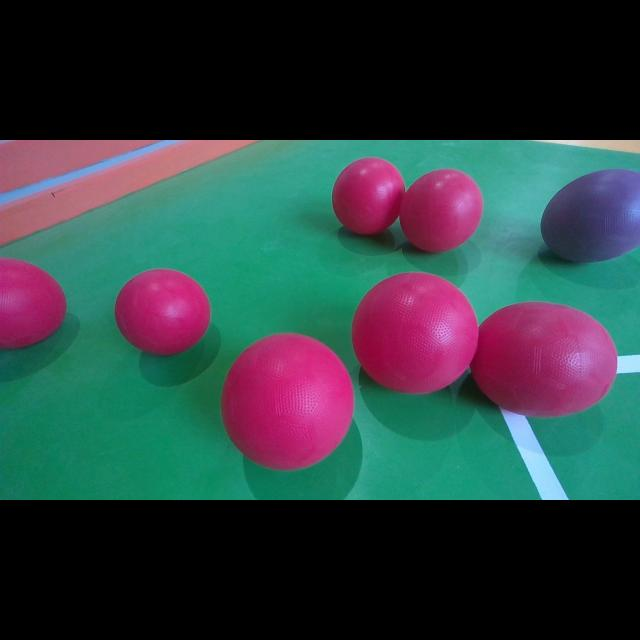P: (540, 168, 640, 264)
R: (222, 332, 354, 471), (468, 302, 618, 418), (352, 272, 478, 394), (115, 269, 212, 355), (400, 169, 482, 253), (0, 254, 66, 350), (332, 158, 404, 235)
